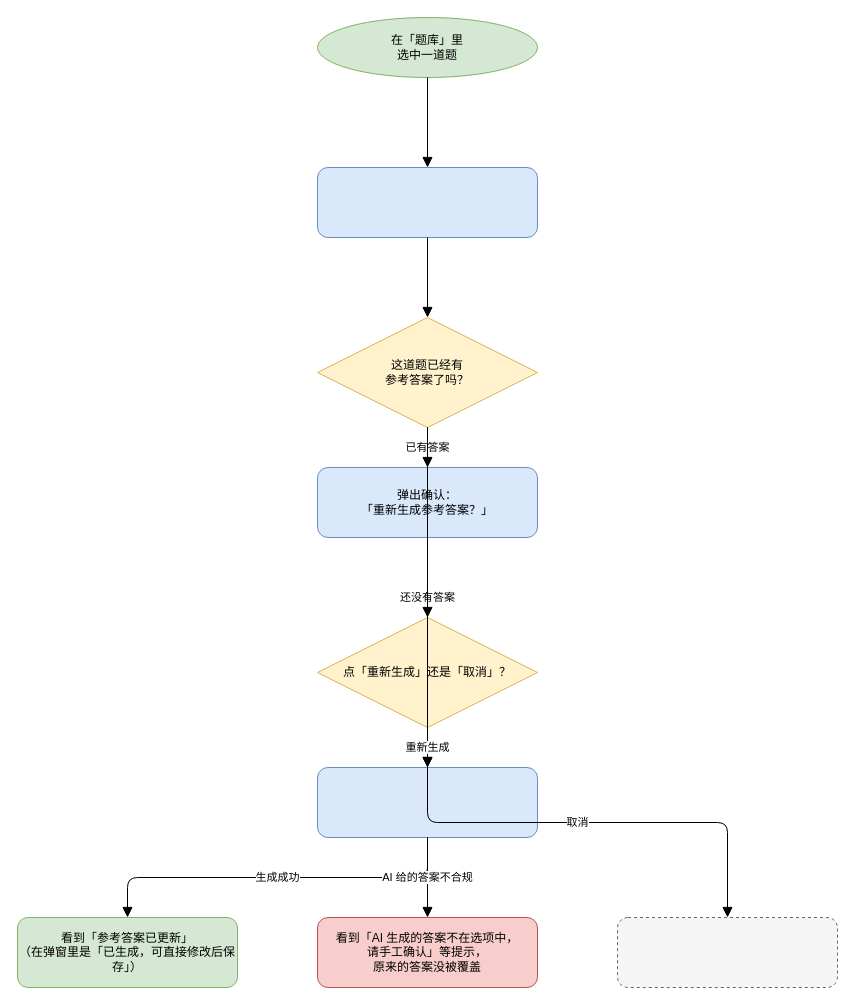
This 855x1005 diagram has some shape labels left out. Each missing label, with the box of its shape:
按钮变成「生成中…」，稍等: (316, 766, 538, 838)
点「取消」， 答案保持原样: (616, 916, 838, 988)
点右侧的 「AI 生成参考答案」: (316, 166, 538, 238)
